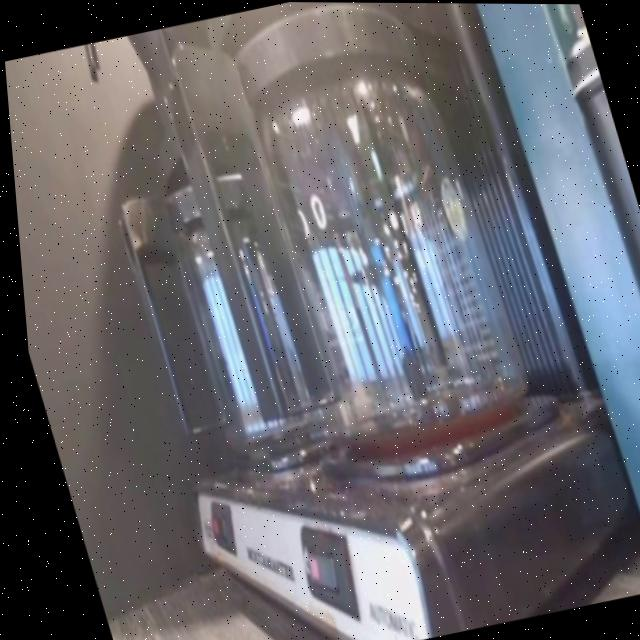nocoffee: (238, 77, 531, 448), (161, 235, 308, 457)
